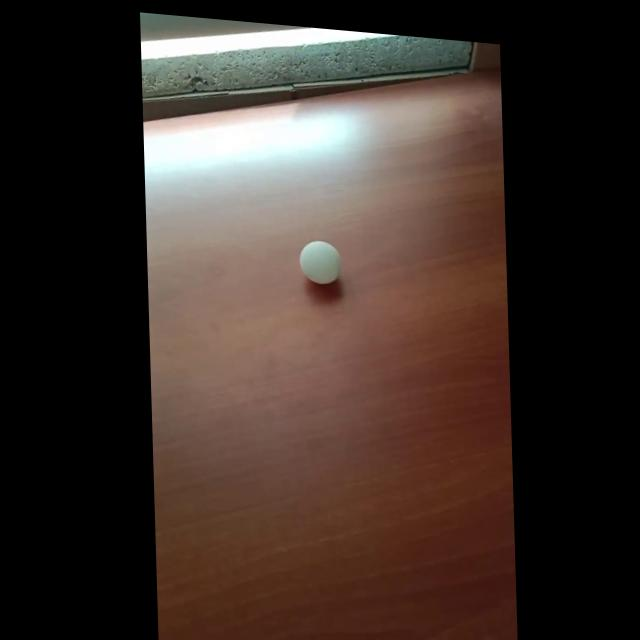white ball: (298, 238, 342, 286)
